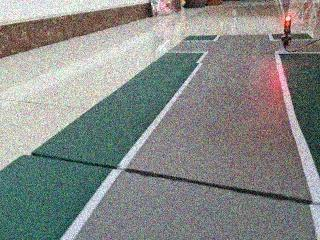red: (280, 13, 294, 48)
